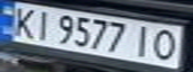5: (69, 15, 93, 48)
7: (106, 19, 130, 54), (87, 17, 109, 52)
9: (51, 11, 75, 45)
I: (127, 24, 160, 58), (30, 8, 57, 42)
K: (6, 4, 42, 38)
O: (148, 27, 184, 62)
